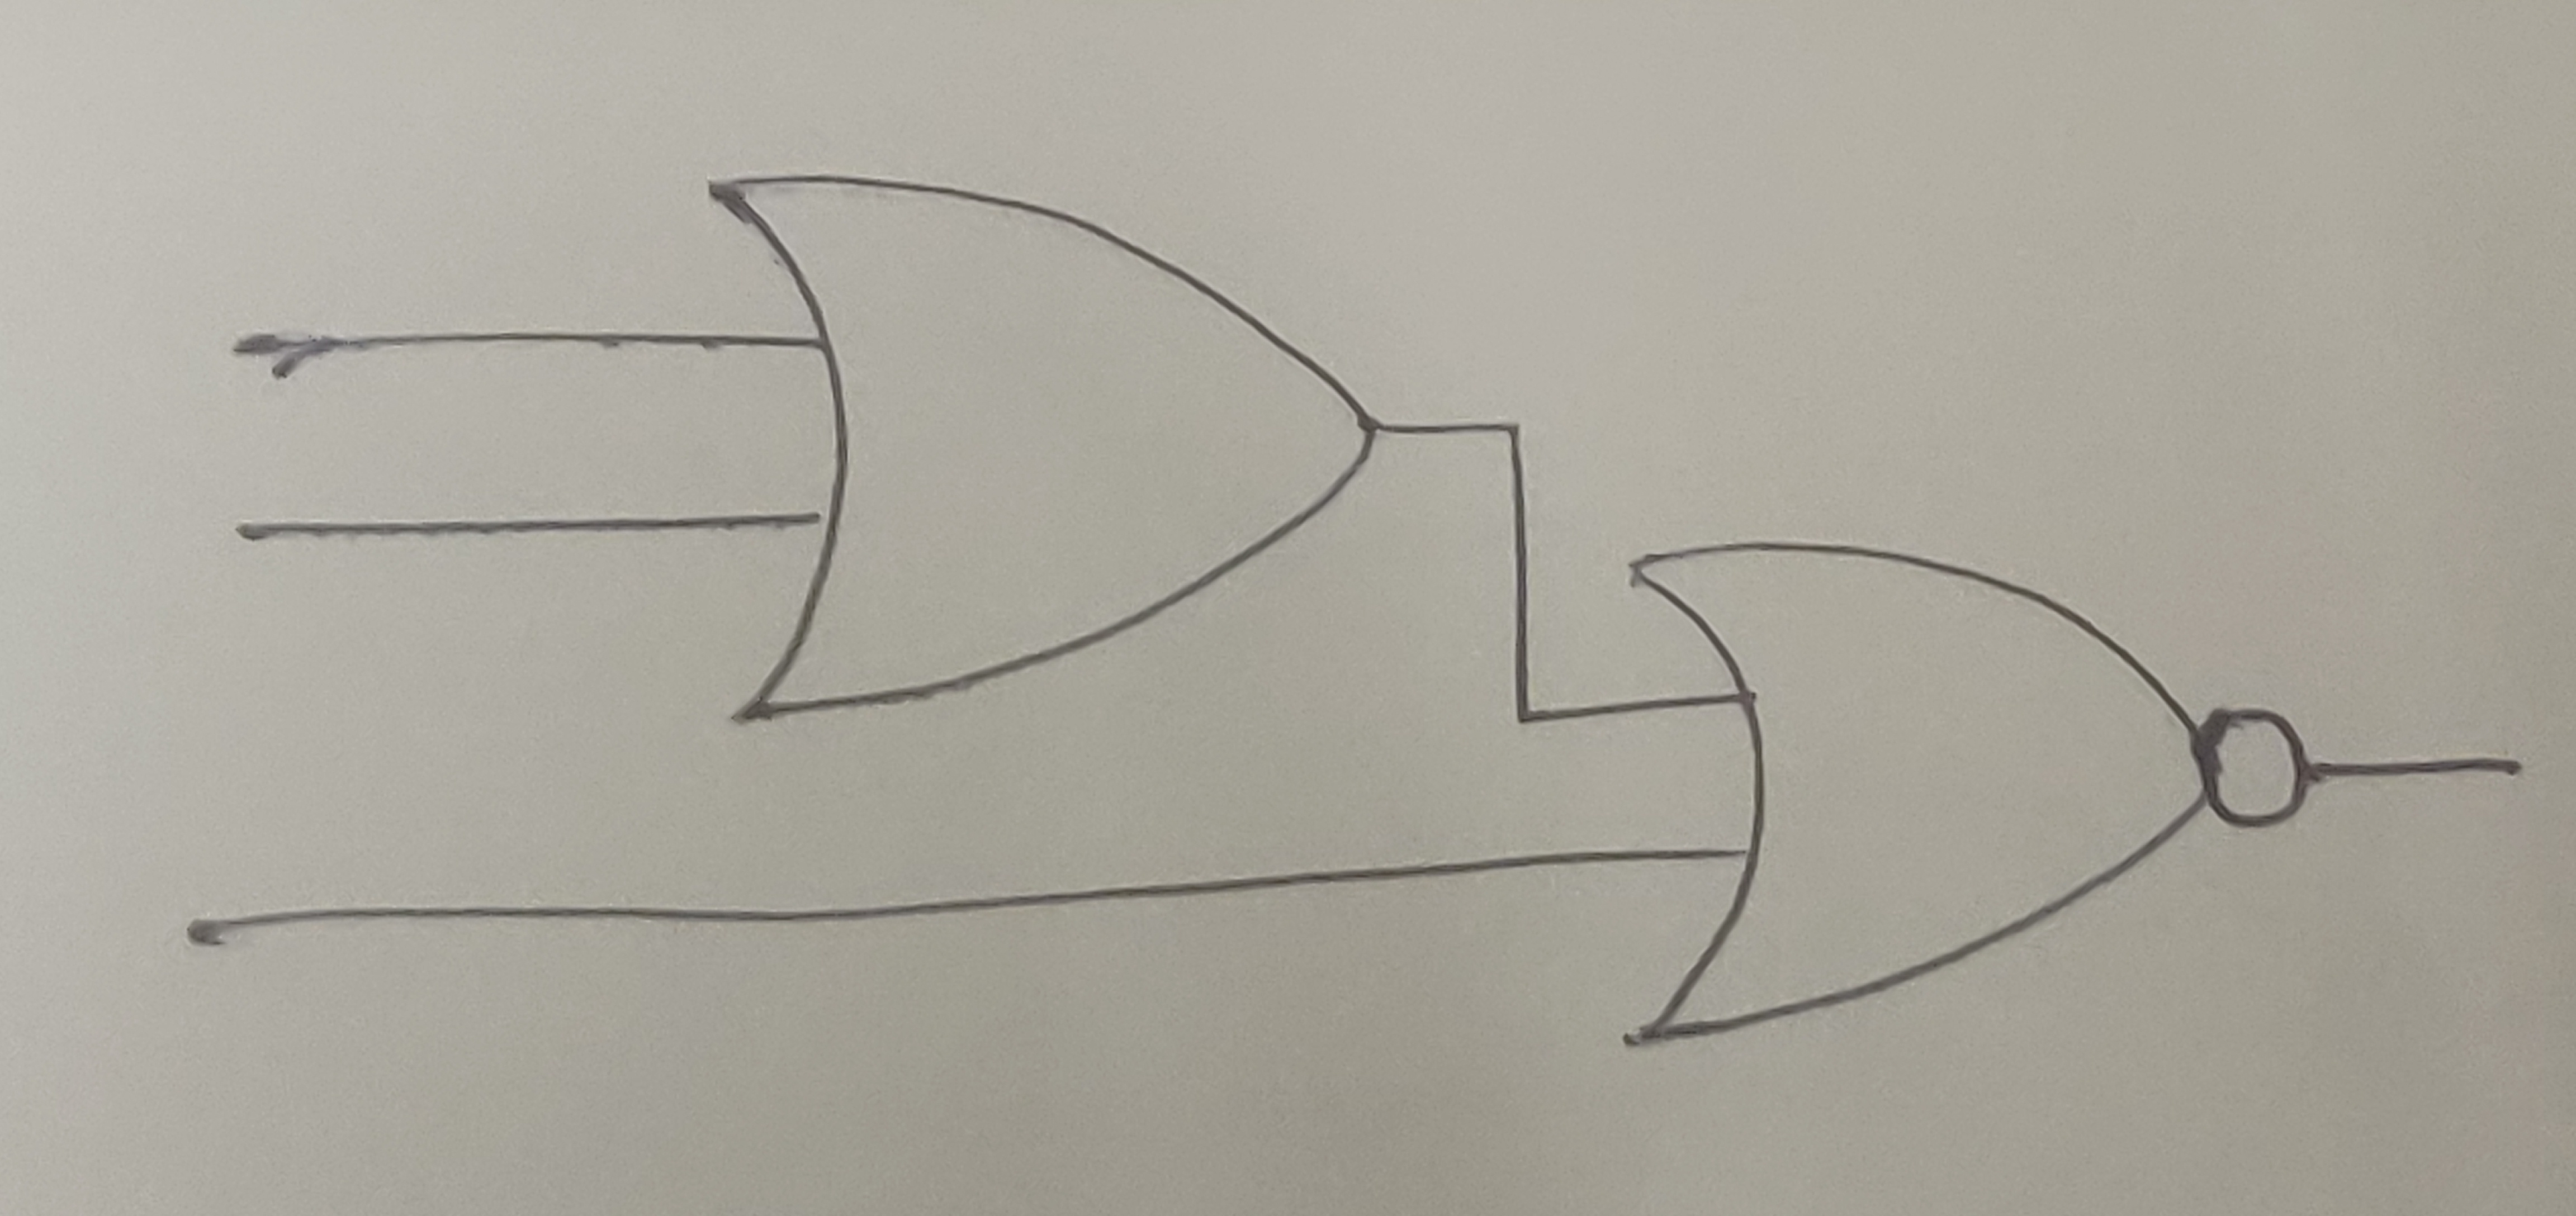not: (2195, 707, 2316, 831)
or: (701, 168, 1383, 726), (1617, 539, 2218, 1055)
